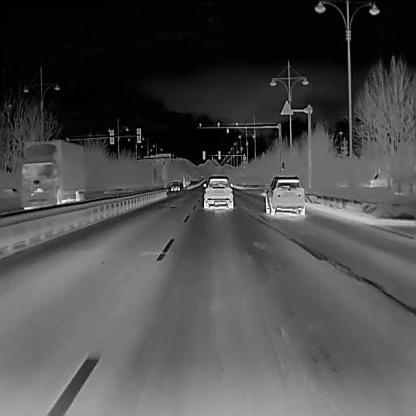car: (264, 175, 306, 215), (203, 174, 234, 210), (170, 180, 178, 190)
truck: (19, 139, 86, 210)
